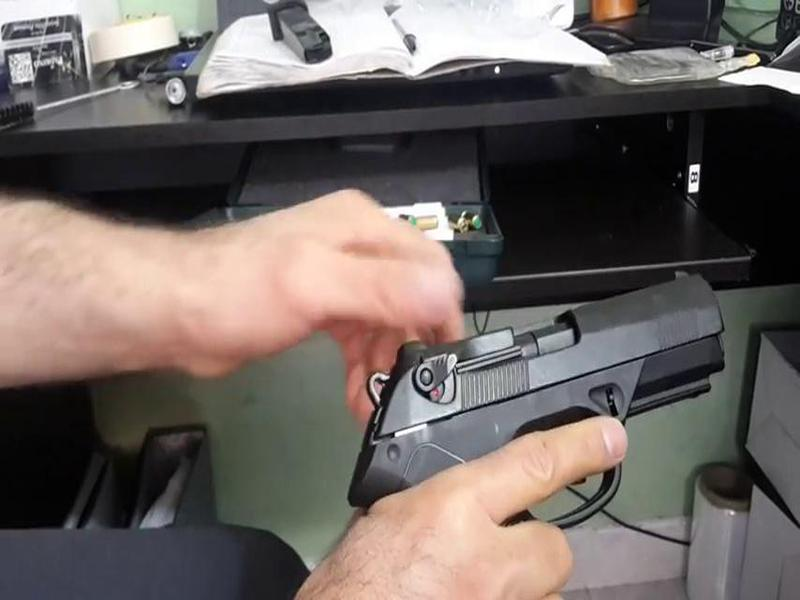Pistola: (364, 264, 748, 534)
